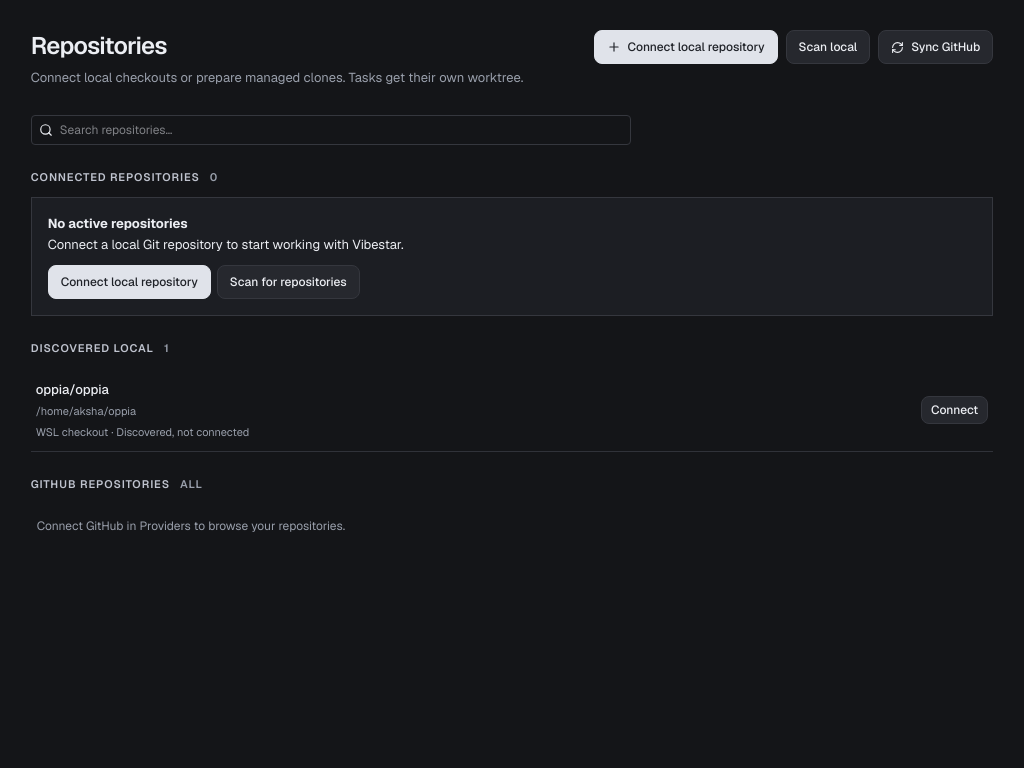
Test: shows active connections and an All GitHub catalog without legacy filters or advanced URL forms
The width and height of the screenshot is (1024, 768).
Expected: the text "No active repositories" is shown, top-left (48, 215), bottom-right (188, 232)
Expected: the text "Discovered, not connected" is shown, top-left (108, 425), bottom-right (249, 439)
Click the button "Connect": (955, 410) top-left (921, 396), bottom-right (988, 424)
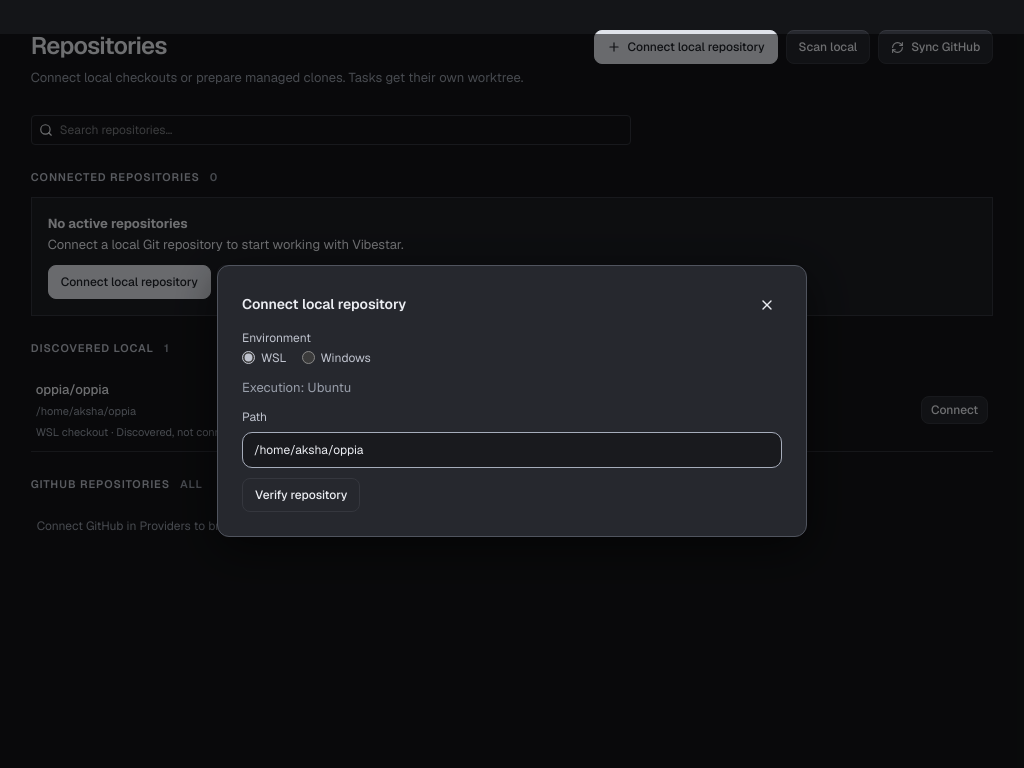
Expected: the field labelled "Path" holds "/home/aksha/oppia", top-left (242, 432), bottom-right (782, 468)
